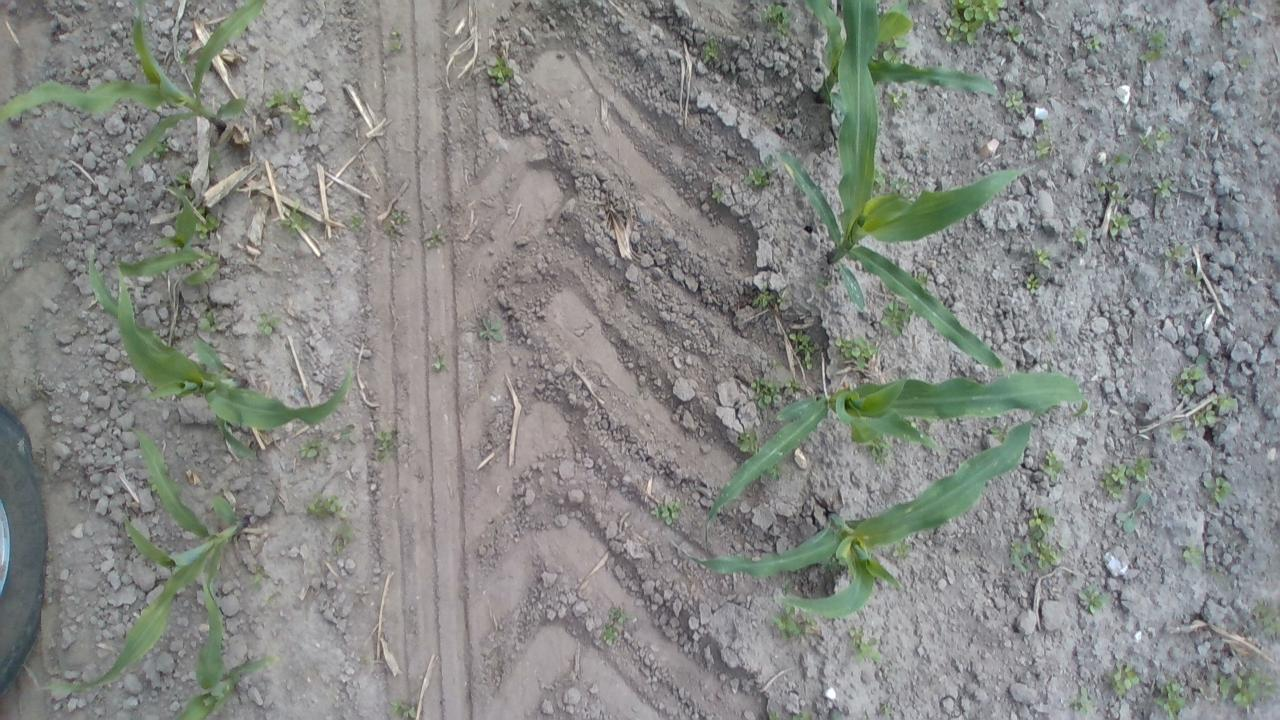Maize: (778, 0, 1032, 369), (690, 407, 1040, 623), (706, 375, 1088, 540), (84, 255, 359, 462), (48, 430, 245, 694), (0, 0, 270, 170), (803, 0, 998, 122), (172, 548, 270, 720), (116, 188, 224, 284)
Weeds: (1007, 502, 1060, 574), (940, 0, 1007, 46), (1216, 669, 1280, 711), (264, 86, 312, 132), (750, 374, 806, 411), (1102, 456, 1152, 497), (834, 333, 878, 372), (774, 604, 818, 640), (879, 298, 916, 338), (278, 197, 313, 238), (760, 1, 794, 42), (1194, 394, 1238, 424), (1116, 496, 1150, 534), (848, 626, 881, 664), (1175, 356, 1207, 395), (740, 156, 777, 188), (1158, 681, 1188, 720), (789, 327, 816, 370), (602, 606, 631, 646), (1078, 580, 1110, 616), (304, 491, 344, 518), (1110, 660, 1140, 696), (1140, 30, 1171, 64), (1251, 598, 1280, 634), (871, 36, 907, 64), (486, 55, 514, 91), (1202, 474, 1233, 506), (386, 695, 422, 720), (376, 429, 400, 466), (652, 498, 682, 526), (751, 285, 786, 308), (1070, 684, 1096, 714), (866, 436, 891, 466), (1040, 452, 1064, 483), (1094, 176, 1122, 202), (477, 317, 506, 342), (196, 209, 222, 236), (254, 312, 282, 336), (1139, 129, 1174, 148), (736, 430, 760, 457), (1110, 211, 1134, 238), (336, 520, 354, 556), (884, 86, 910, 110), (702, 36, 722, 66), (1169, 419, 1191, 446), (298, 435, 323, 458), (1033, 136, 1056, 160), (1164, 240, 1188, 263), (1180, 545, 1203, 569), (895, 177, 916, 203), (1004, 88, 1024, 114), (886, 540, 914, 558), (175, 172, 193, 200), (1007, 22, 1029, 44), (1151, 176, 1174, 197), (1221, 6, 1241, 30), (872, 164, 888, 192), (198, 310, 218, 332), (150, 140, 172, 160), (1108, 151, 1132, 168), (350, 214, 370, 233), (424, 228, 442, 249), (1024, 274, 1042, 294), (1183, 268, 1203, 286), (1033, 246, 1050, 267), (990, 424, 1008, 443), (253, 564, 264, 595), (1070, 227, 1088, 244), (388, 31, 402, 52), (914, 271, 929, 289), (394, 212, 410, 228), (432, 352, 447, 369), (792, 709, 814, 720), (814, 274, 831, 288), (1086, 36, 1100, 52), (340, 423, 353, 440), (1239, 56, 1254, 70), (879, 701, 892, 717), (709, 190, 722, 206), (770, 465, 781, 482), (780, 579, 792, 594), (1040, 120, 1053, 132), (768, 709, 782, 720), (210, 152, 222, 162), (180, 54, 190, 64), (1127, 24, 1137, 33)
